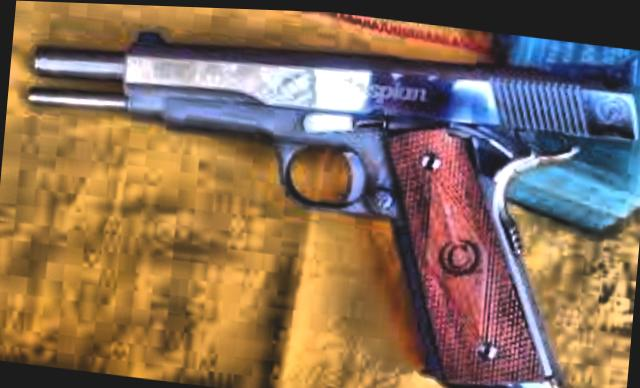pistol: (1, 0, 639, 388)
